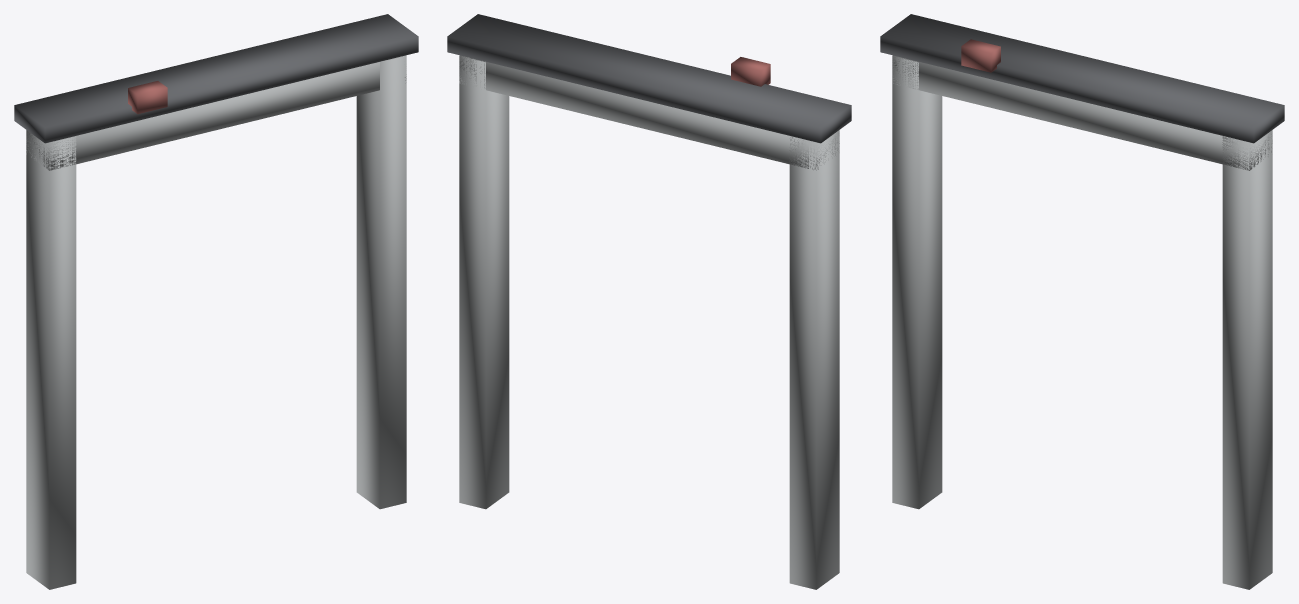
File: doorway_fire_rated_w182_h240_d24.glb
3 renders of one model, left to right at view 1: azimuth 30°, elevation 25°; view 2: azimuth 150°, elevation 25°; view 3: azimuth 330°, elevation 25°, orthographic.
Parts seen in each view (by area): view 1: world; view 2: world; view 3: world.
Boxes of the visible parts, x1=… form: world: x1=14, y1=14, x2=418, y2=589; world: x1=447, y1=14, x2=851, y2=589; world: x1=880, y1=14, x2=1284, y2=589.
Bounding box in the file's own units: 2.24 × 2.77 × 0.38.
